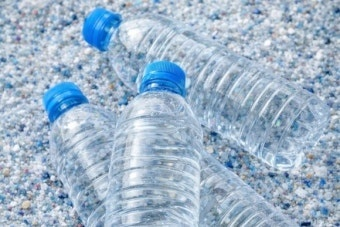plastic: (105, 60, 201, 227)
